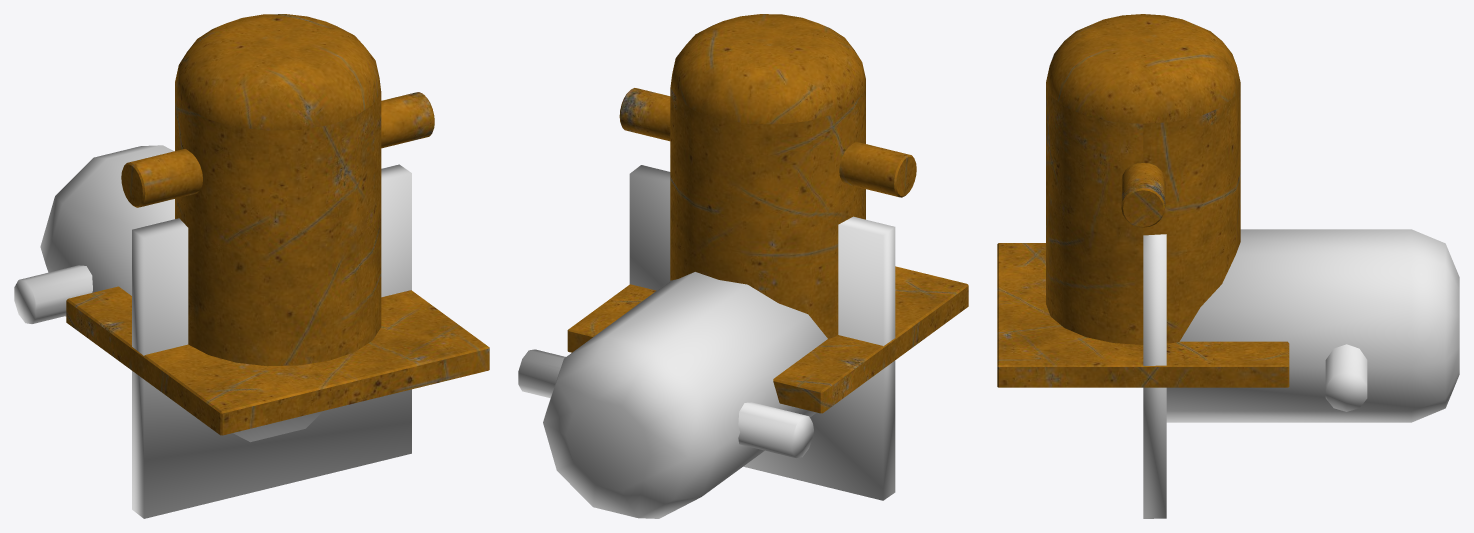
Rendered from SM_Bollard.fbx.
The picture shows the model from 3 angles, left to right: view 1: azimuth 30°, elevation 25°; view 2: azimuth 150°, elevation 25°; view 3: azimuth 270°, elevation 25°; orthographic projection. The views are drawn at different scales.
Visible parts, largest first — view 1: SM_Bollard, SM_Bollard_ConvexHulls; view 2: SM_Bollard_ConvexHulls, SM_Bollard; view 3: SM_Bollard, SM_Bollard_ConvexHulls.
Boxes of the visible parts, <box> form: SM_Bollard: <box>66,14,489,435</box>; SM_Bollard_ConvexHulls: <box>14,145,411,518</box>; SM_Bollard_ConvexHulls: <box>518,165,895,518</box>; SM_Bollard: <box>567,14,968,413</box>; SM_Bollard: <box>997,14,1289,387</box>; SM_Bollard_ConvexHulls: <box>1143,229,1459,518</box>.
Size of the model in its own units: 0.65 by 0.9483 by 0.95.
